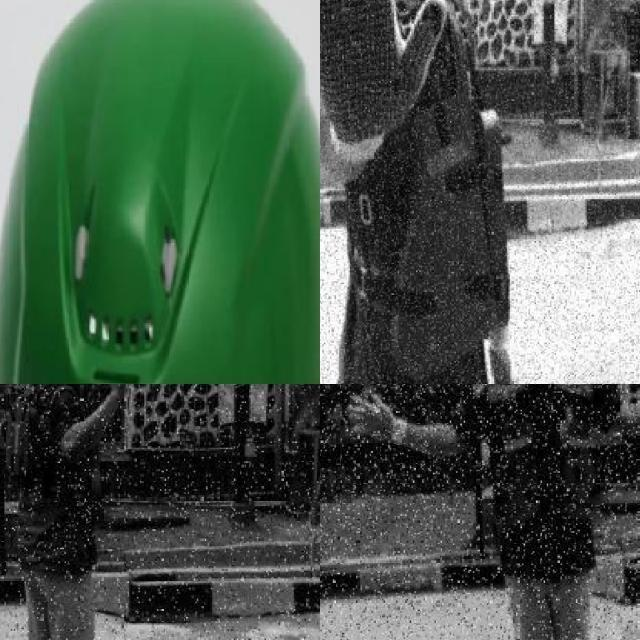apron: (320, 0, 448, 171), (344, 393, 408, 449), (486, 315, 521, 384)
